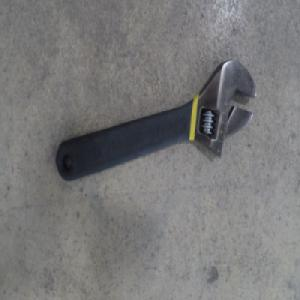AdjustableWrench: (57, 59, 257, 184)
